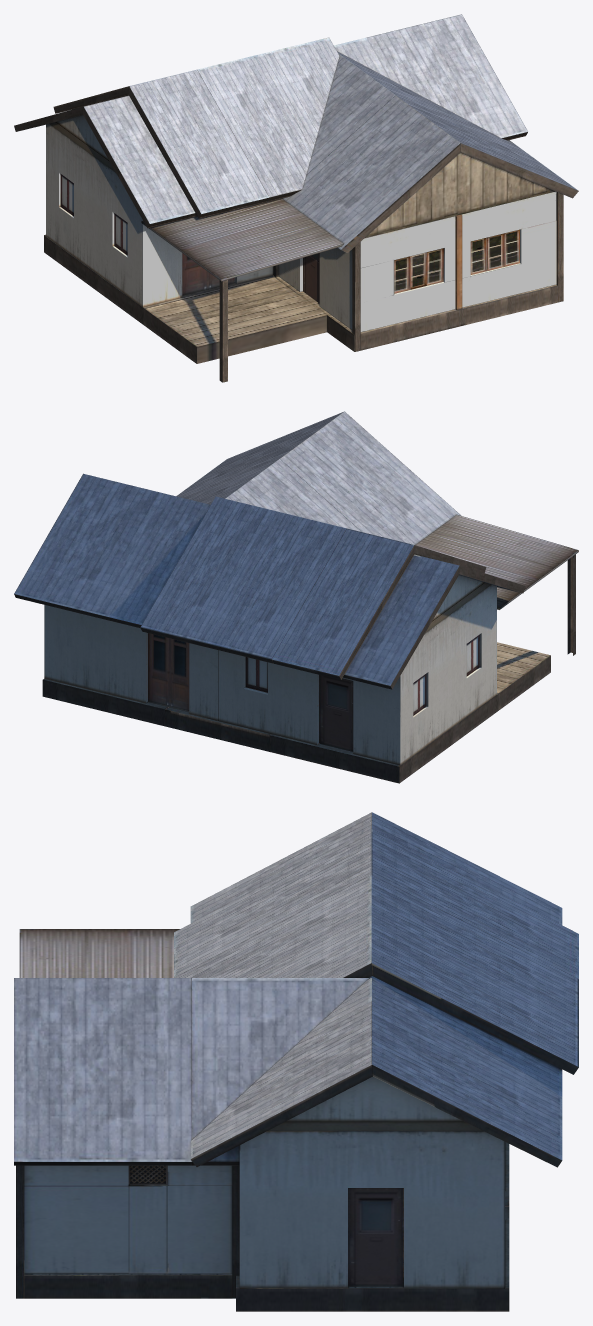
3 renders of one model, top to bottom at view 1: azimuth 30°, elevation 25°; view 2: azimuth 150°, elevation 25°; view 3: azimuth 270°, elevation 25°, orthographic. The views are drawn at different scales.
Parts seen in each view (by area): view 1: Object013; view 2: Object013; view 3: Object013.
Part boxes in pixels (box(x1,y1,x2,y2)): Object013: box(14, 14, 578, 382); Object013: box(14, 411, 578, 783); Object013: box(14, 812, 578, 1311).
Size of the model in its own units: 12.74 by 6.26 by 12.04.
Materials: 1 (1 with a texture image).
